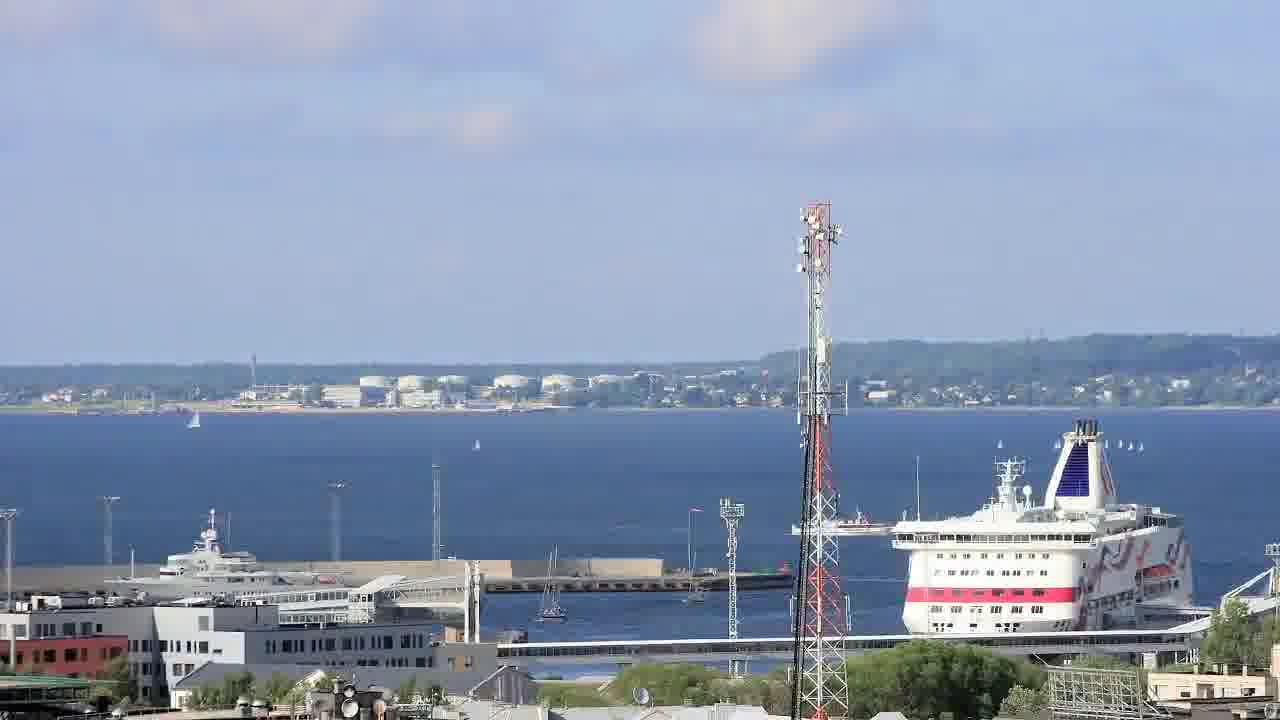type-0: (526, 580, 629, 623)
type-1: (779, 491, 905, 557)
type-2: (178, 395, 215, 446)
type-3: (868, 415, 1225, 638), (84, 537, 359, 610)
